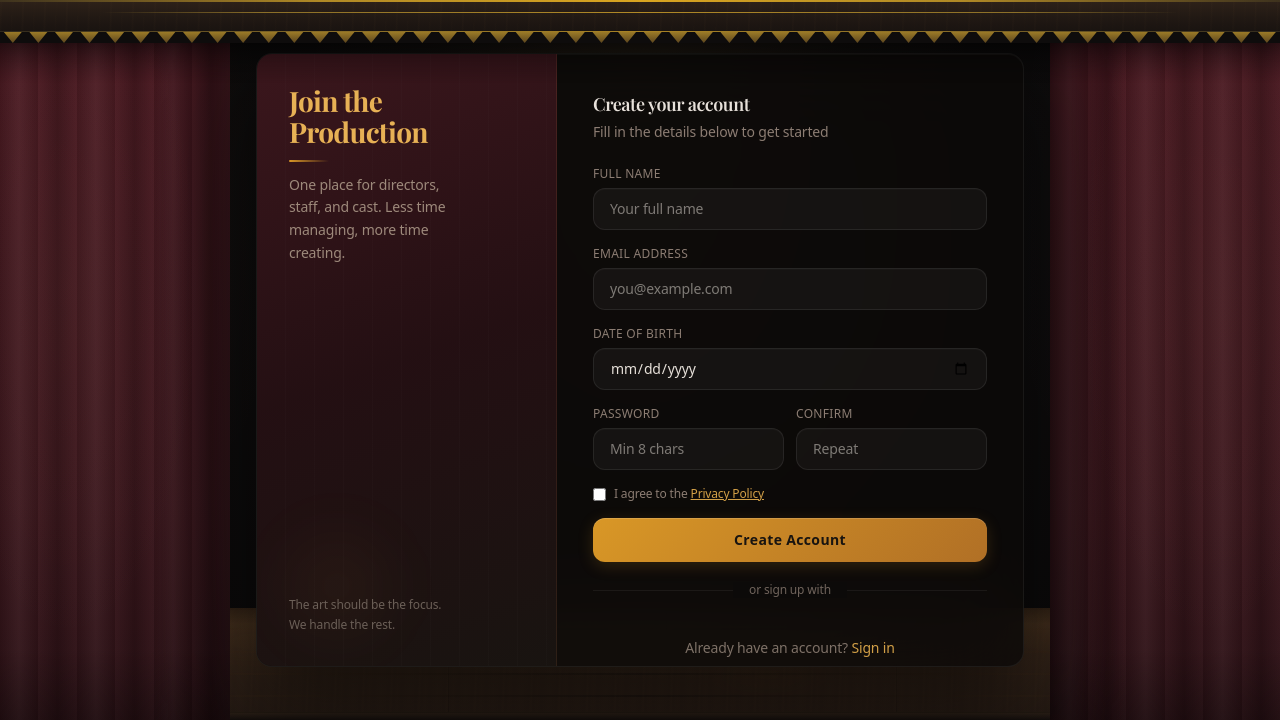
Test: RegisterPage › shows error if passwords do not match
Type "John Doe" into the field labelled "Full Name" at [790, 209], box top-left (593, 188), bottom-right (987, 230)
Type "john@example.com" into the field labelled "Email Address" at [790, 289], box top-left (593, 268), bottom-right (987, 310)
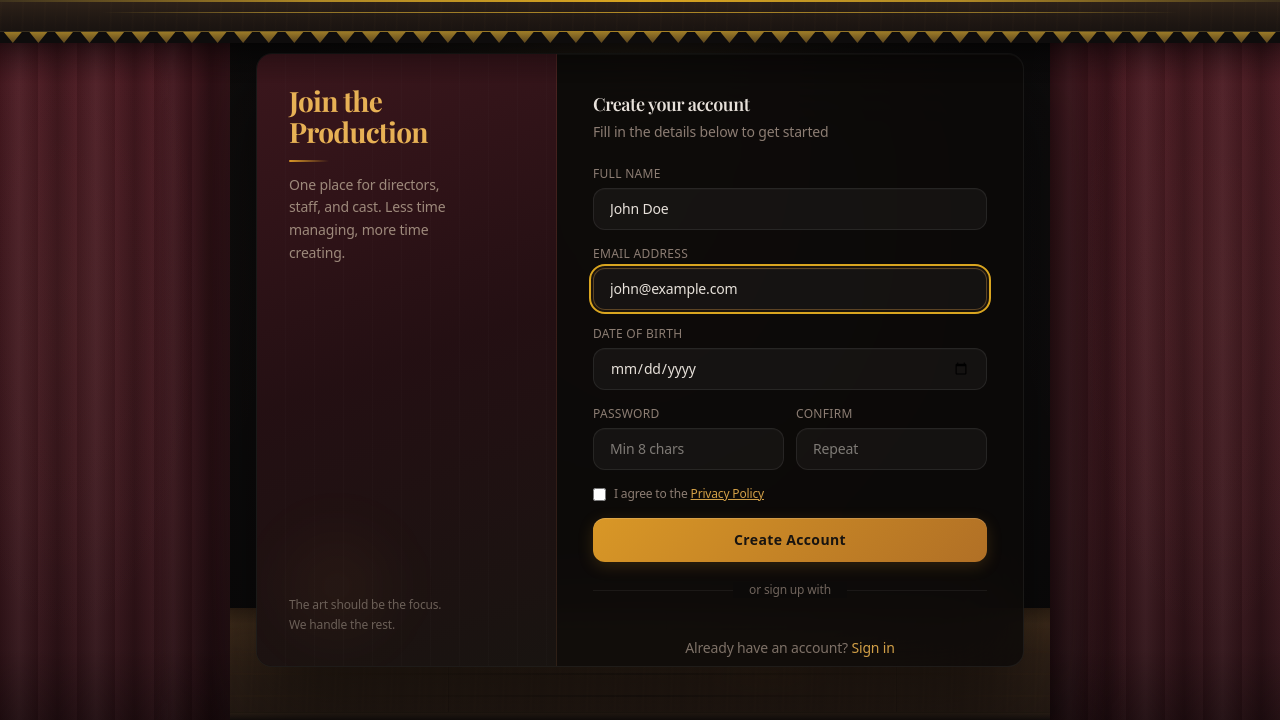
Type "1990-01-01" into the date field labelled "Date of Birth" at [790, 369], box top-left (593, 348), bottom-right (987, 390)
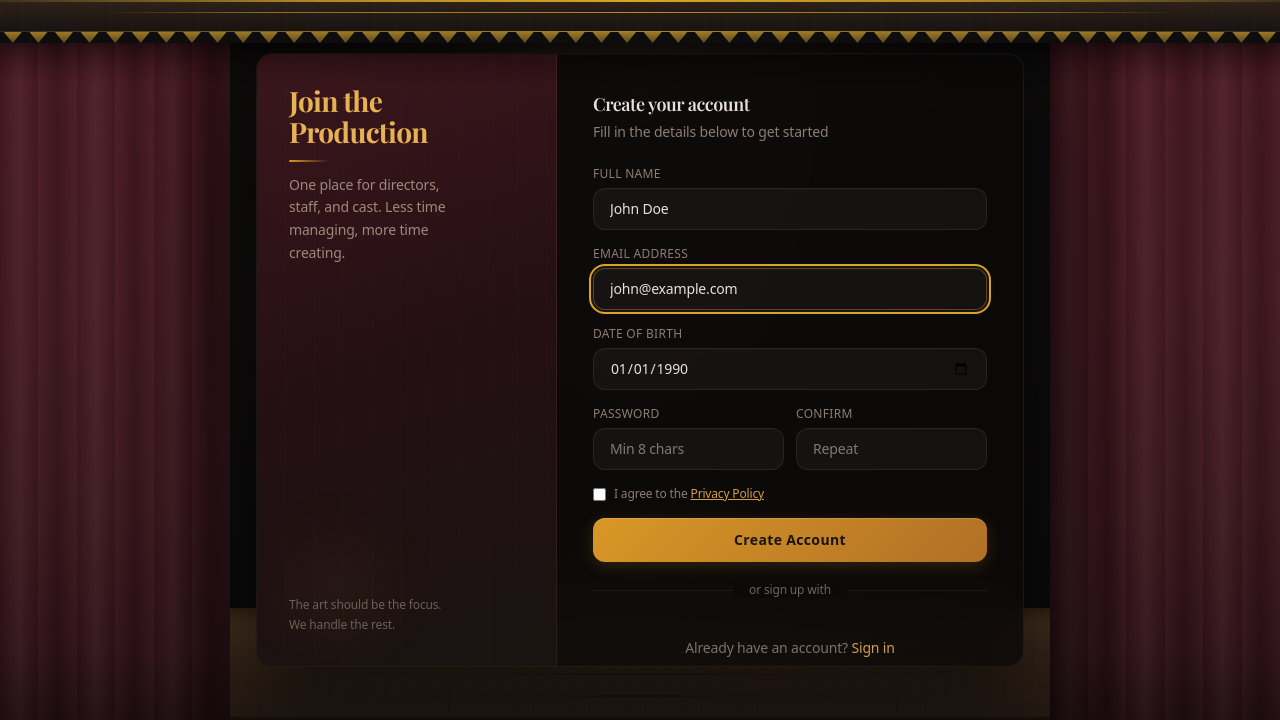
Type "password123" into the password field labelled "Password" at [688, 449], box top-left (593, 428), bottom-right (784, 470)
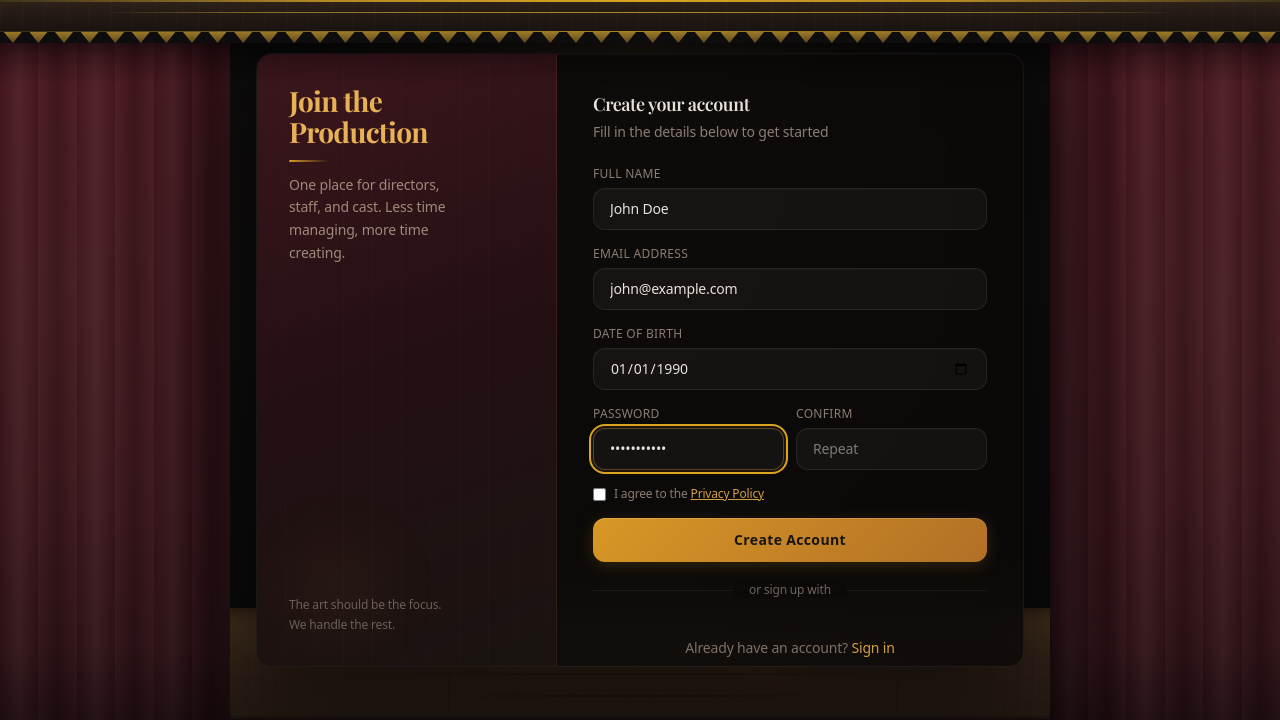
Type "password456" into the password field labelled "Confirm" at [892, 449], box top-left (796, 428), bottom-right (987, 470)
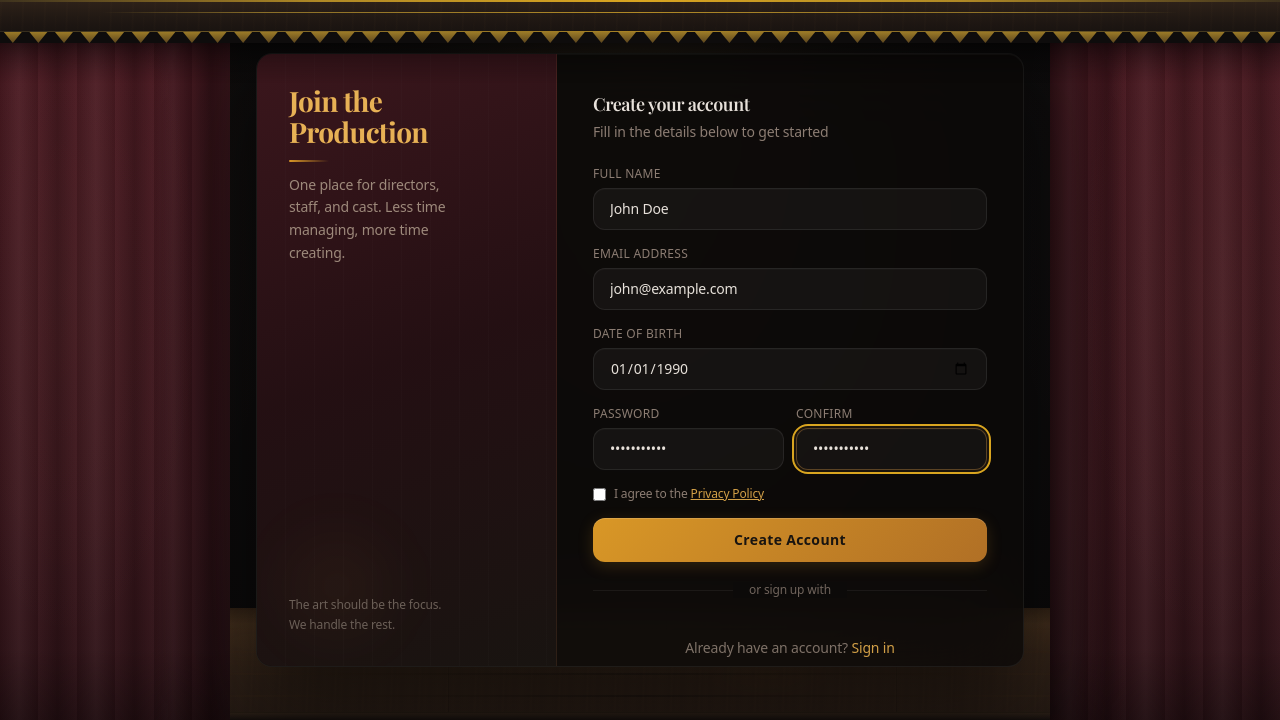
// Check the privacy checkbox
Click the checkbox at [600, 494], box top-left (593, 488), bottom-right (606, 501)
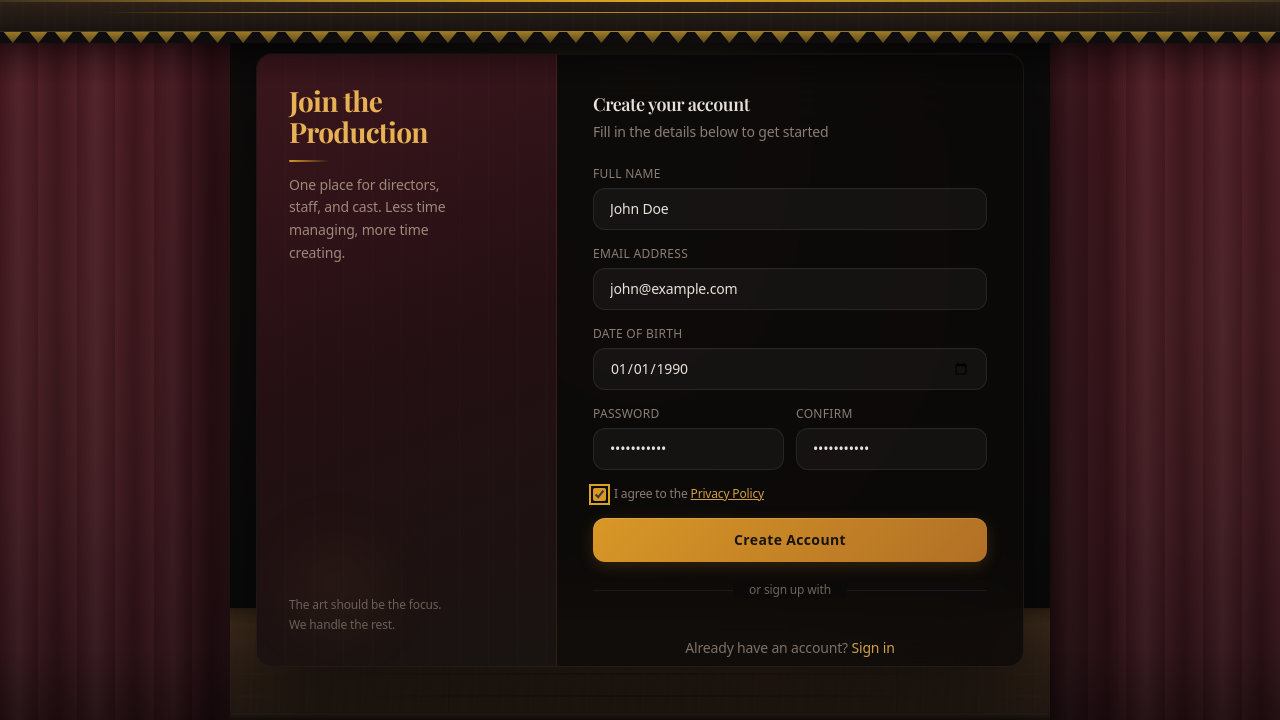
Click the button "Create Account" at [790, 540], box top-left (593, 518), bottom-right (987, 562)
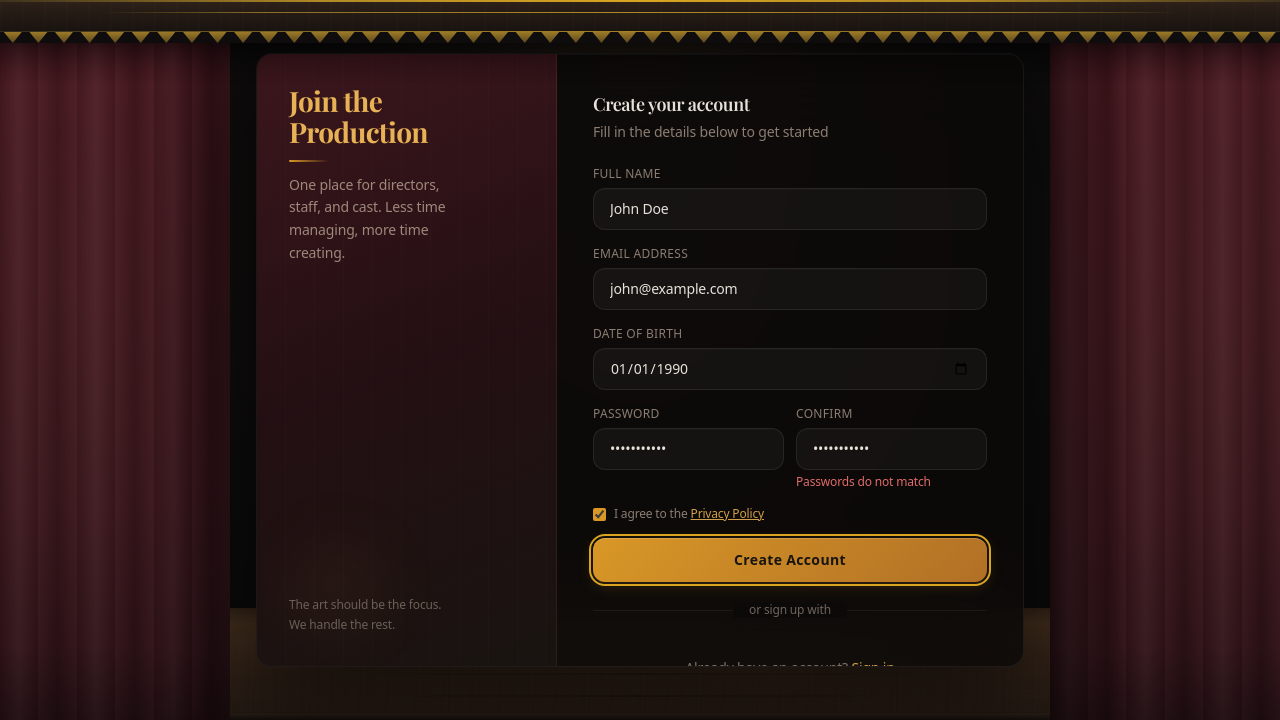
Check: the text "Passwords do not match" is shown, box top-left (796, 473), bottom-right (931, 490)
